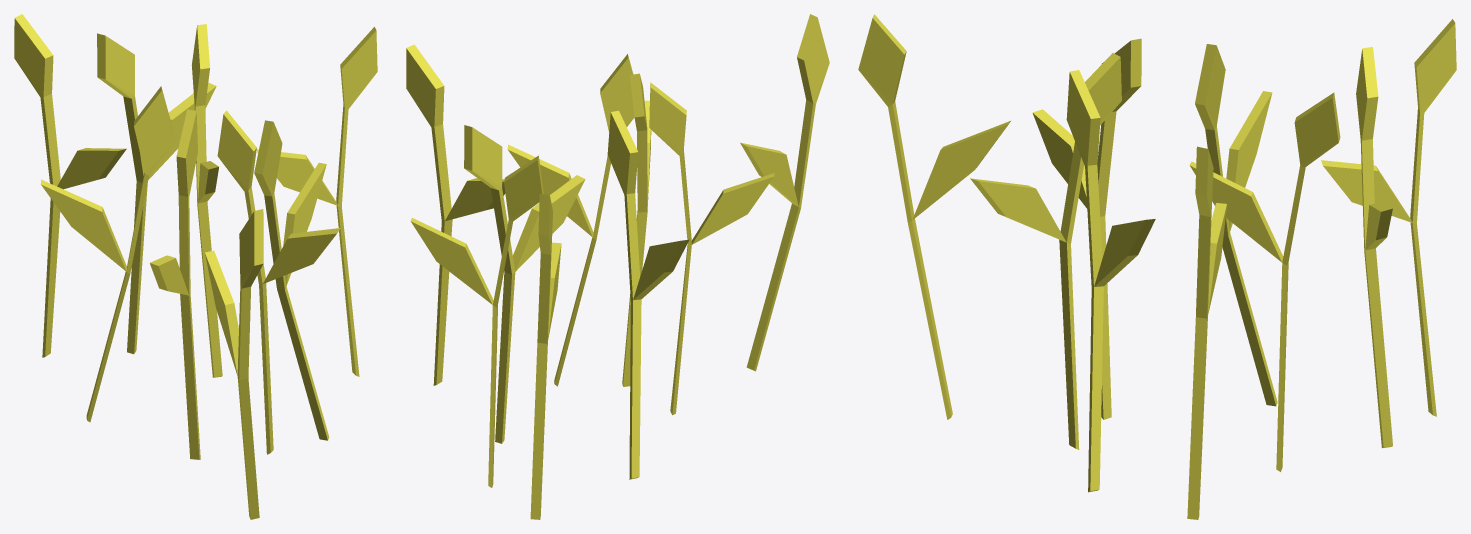
The model's file is Wheat_1.fbx.
The picture shows the model from 3 angles, left to right: view 1: azimuth 30°, elevation 25°; view 2: azimuth 150°, elevation 25°; view 3: azimuth 270°, elevation 25°; orthographic projection. The views are drawn at different scales.
Visible parts, largest first — view 1: Plane.037; view 2: Plane.037; view 3: Plane.037.
Part boxes in pixels (box(x1,y1,x2,y2)): Plane.037: box(14, 14, 377, 519); Plane.037: box(406, 14, 829, 519); Plane.037: box(858, 14, 1456, 519).
Bounding box in the file's own units: 52.98 × 57.46 × 77.92.
